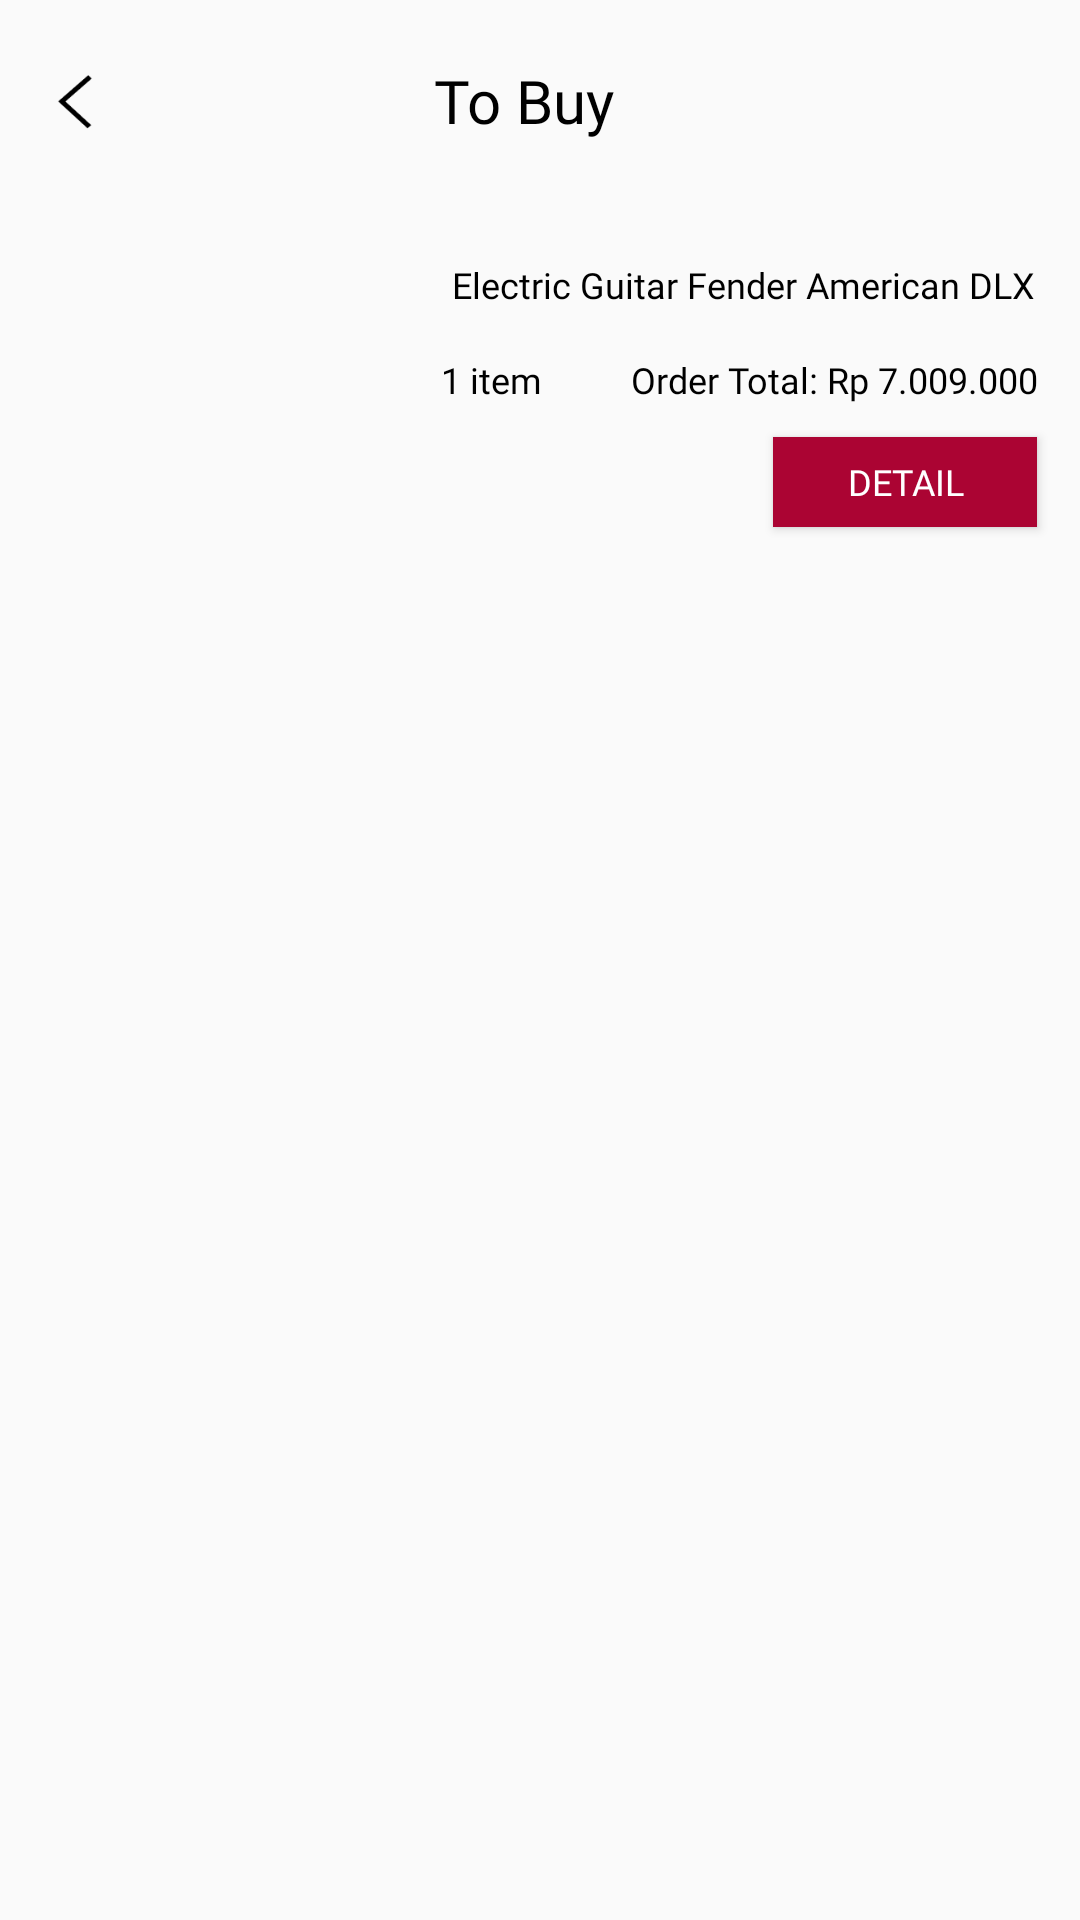

Icons on this 1080px×1920px Android screen, each with the point to tap as [x,y]:
arrow: [75,101]
